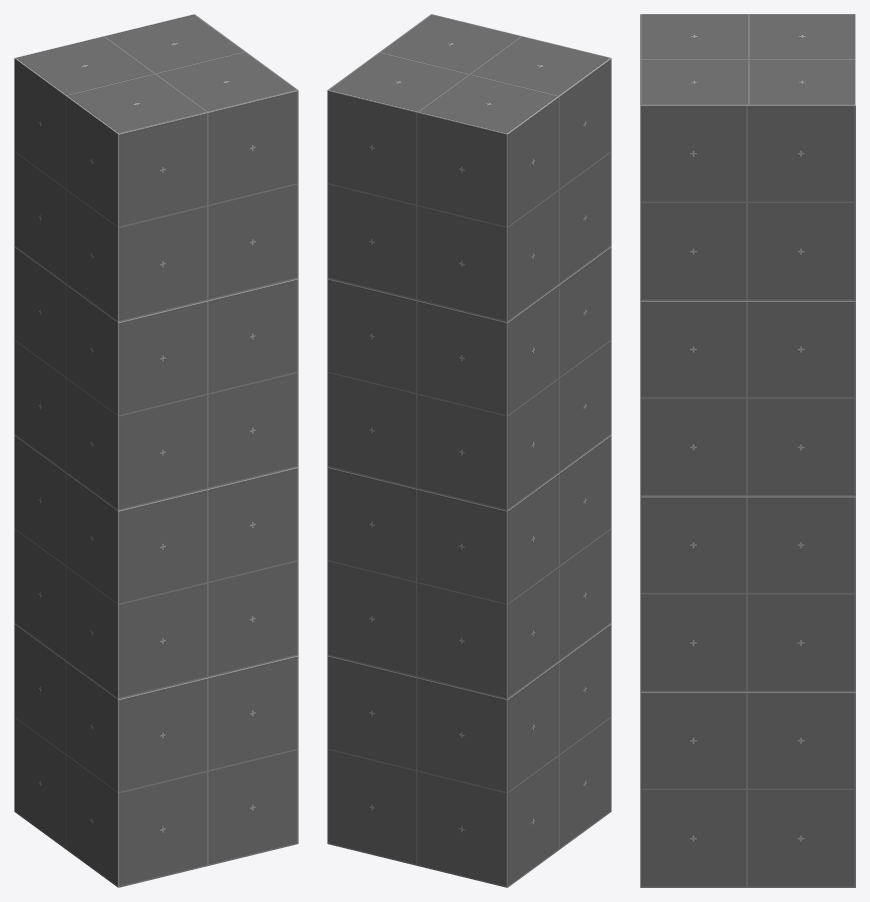
Rendered from scale_box_1x4.fbx.
3 renders of one model, left to right at view 1: azimuth 30°, elevation 25°; view 2: azimuth 150°, elevation 25°; view 3: azimuth 270°, elevation 25°, orthographic. The views are drawn at different scales.
Parts seen in each view (by area): view 1: scale_box_1x4; view 2: scale_box_1x4; view 3: scale_box_1x4.
Part boxes in pixels (x1,y1,x2,y2): scale_box_1x4: [14, 14, 298, 887]; scale_box_1x4: [327, 14, 611, 887]; scale_box_1x4: [640, 14, 855, 887].
Size of the model in its own units: 100 by 400 by 100.
